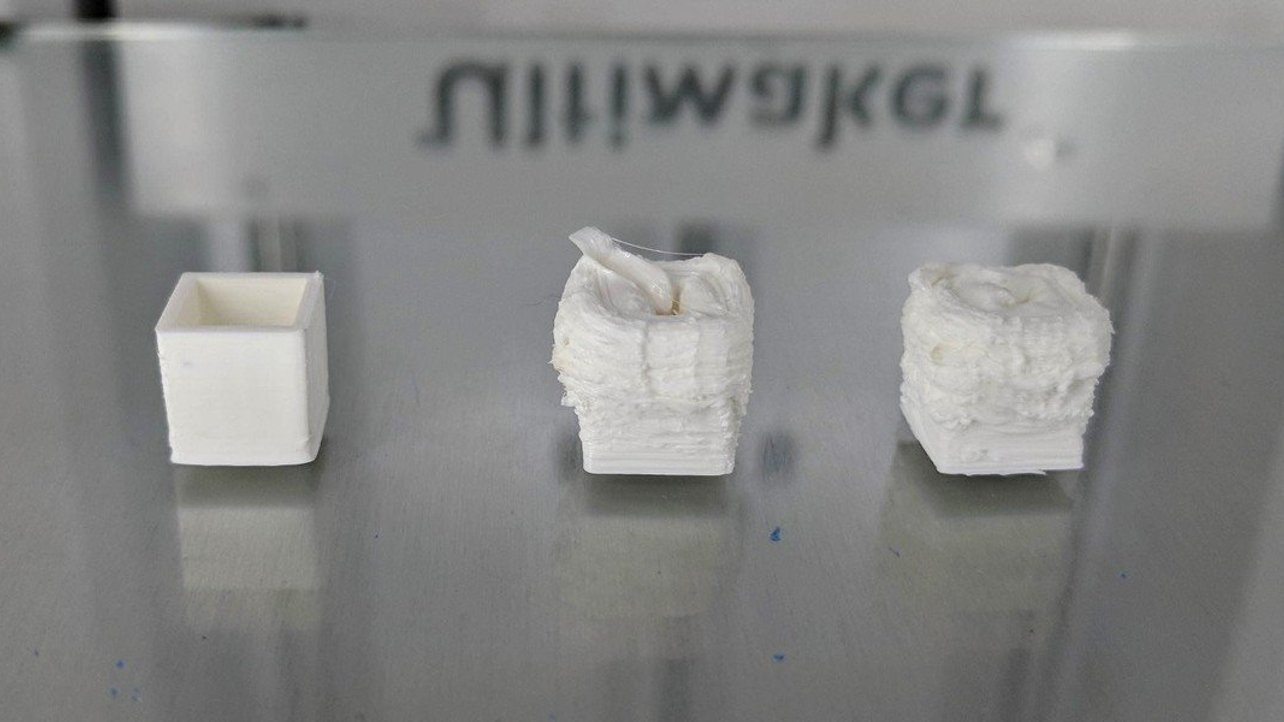blob: (964, 348, 1090, 428), (615, 317, 665, 408), (686, 312, 716, 412)
